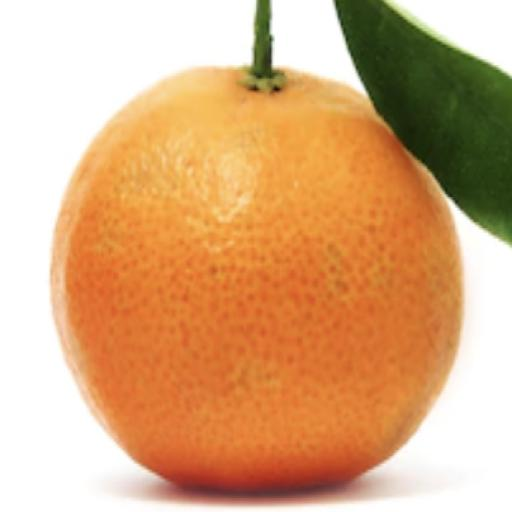orange: (52, 69, 462, 490)
